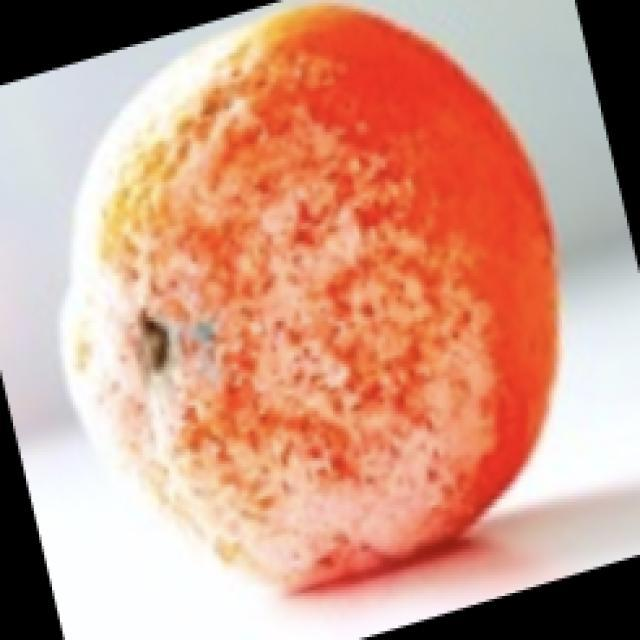sedikit-busuk: (63, 4, 556, 590)
